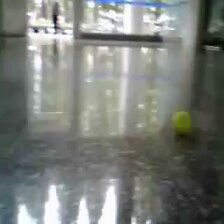tennis: (172, 111, 191, 134)
